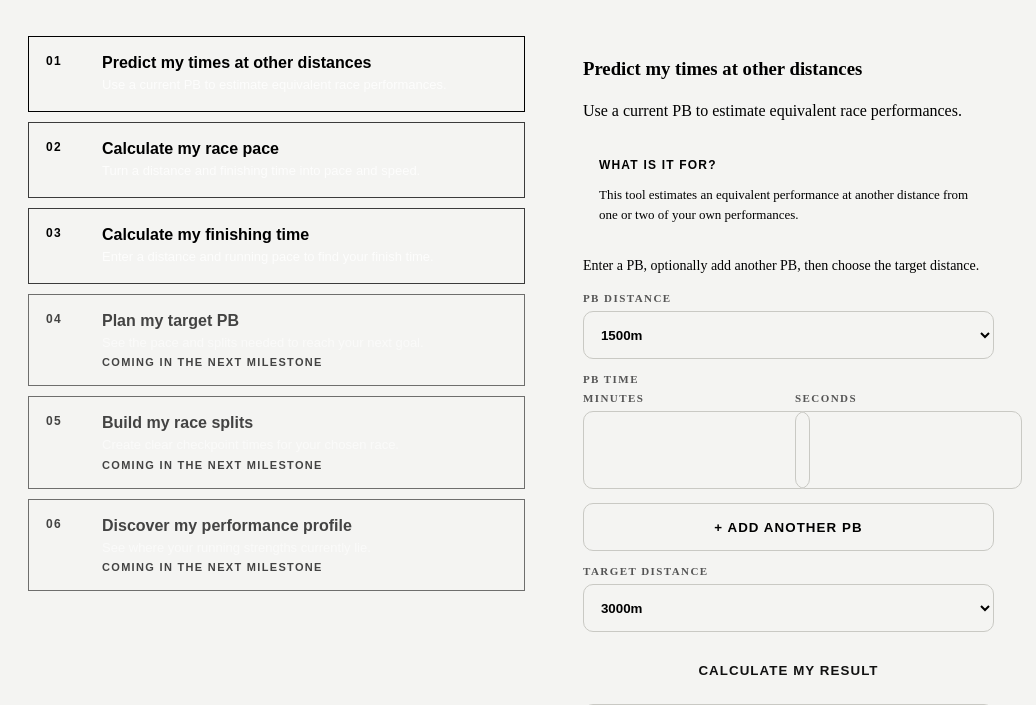
Tool 01 prediction › softens unsupported candidate middle-distance pairings without inventing a time
(page scrolled)
Select "800m" in the dropdown labelled "PB distance" at [788, 335], box [583, 311, 994, 359]
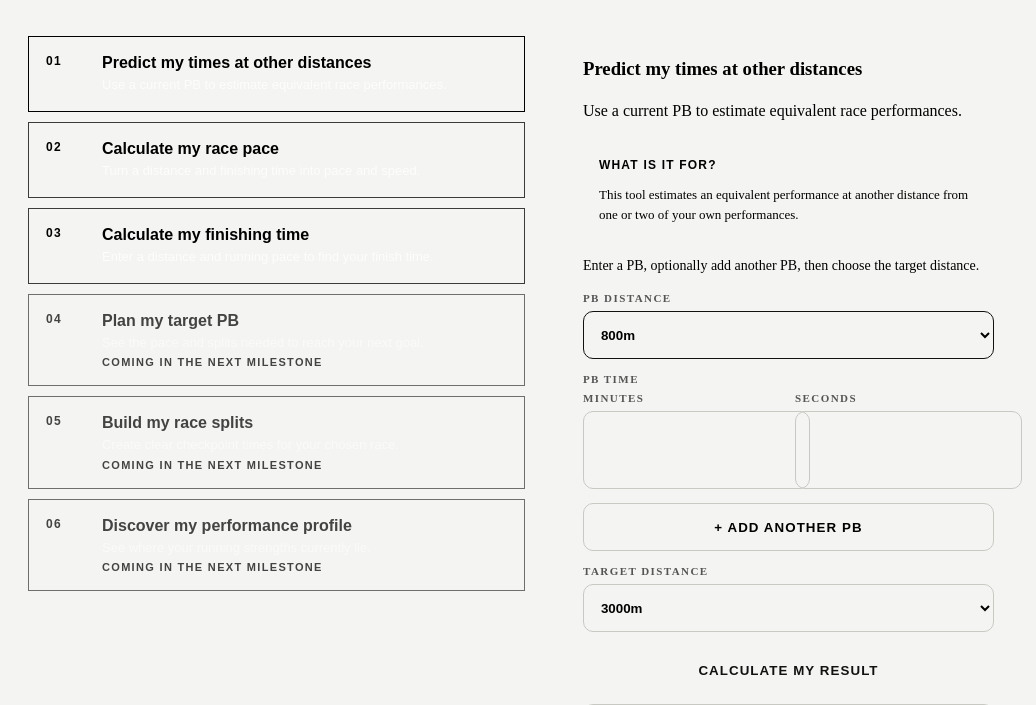
Type "2" into the field labelled "Minutes" at [696, 450], box [583, 411, 810, 489]
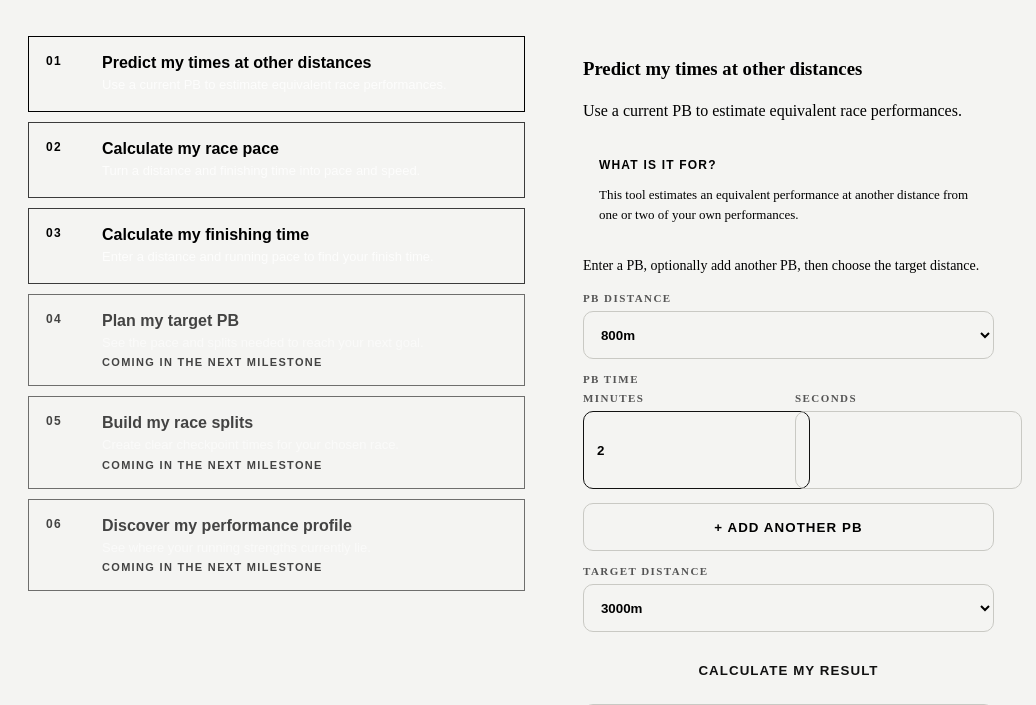
Type "0" into the field labelled "Seconds" at [908, 450], box [795, 411, 1022, 489]
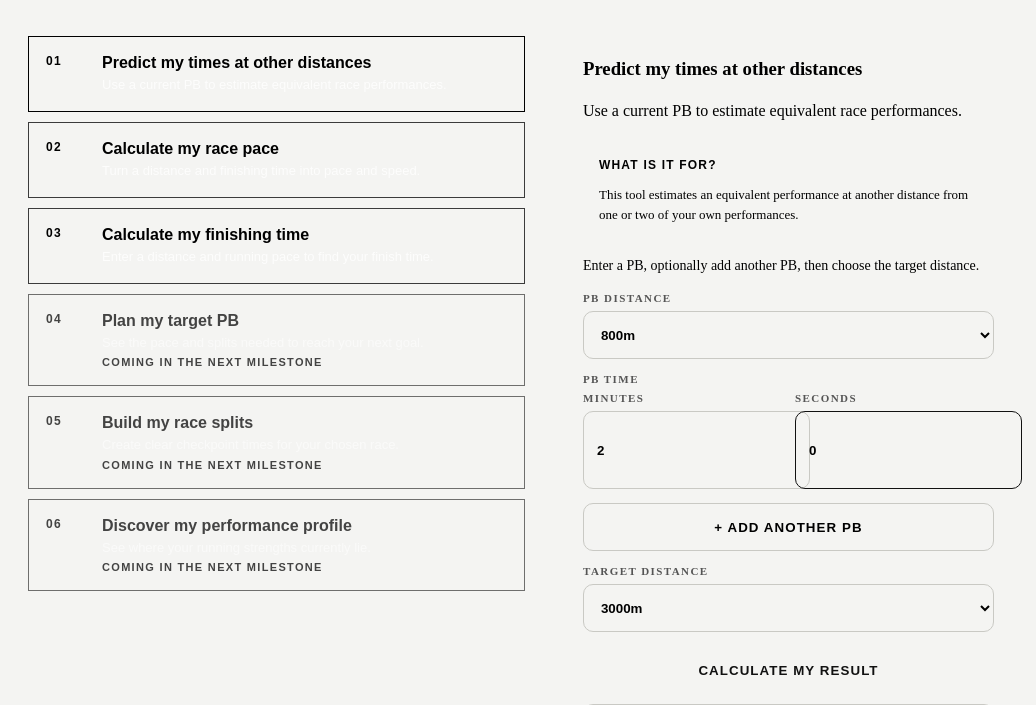
Select "1500m" in the dropdown labelled "Target distance" at [788, 608], box [583, 584, 994, 632]
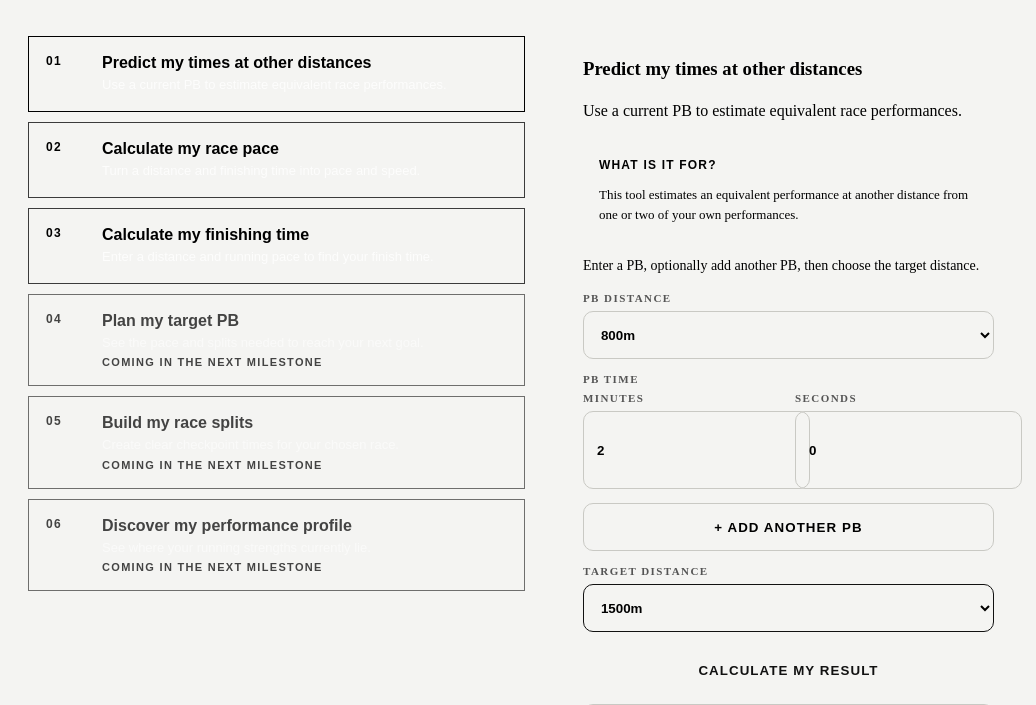
Click the button "Calculate my result" at [788, 670], box [583, 646, 994, 694]
(page scrolled)
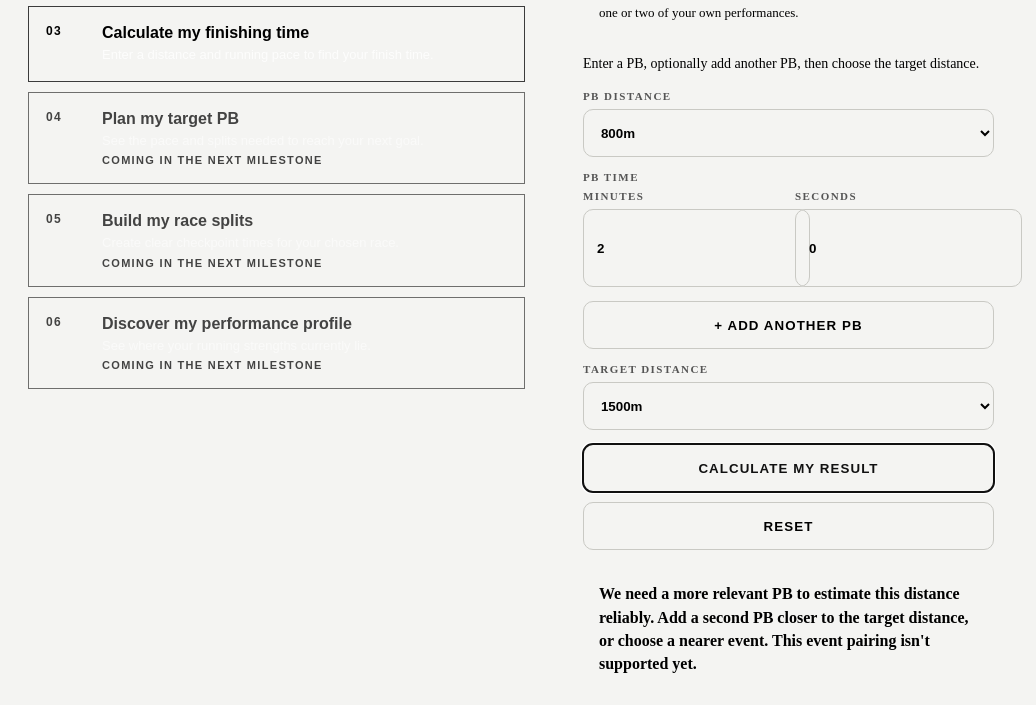
Check: the message shows "We need a more relevant PB to estimate this distance reliably. Add a second PB closer to the target distance, or choose a nearer event.", box [599, 585, 969, 672]
Check: the message shows "This event pairing isn't supported yet.", box [599, 585, 969, 672]
